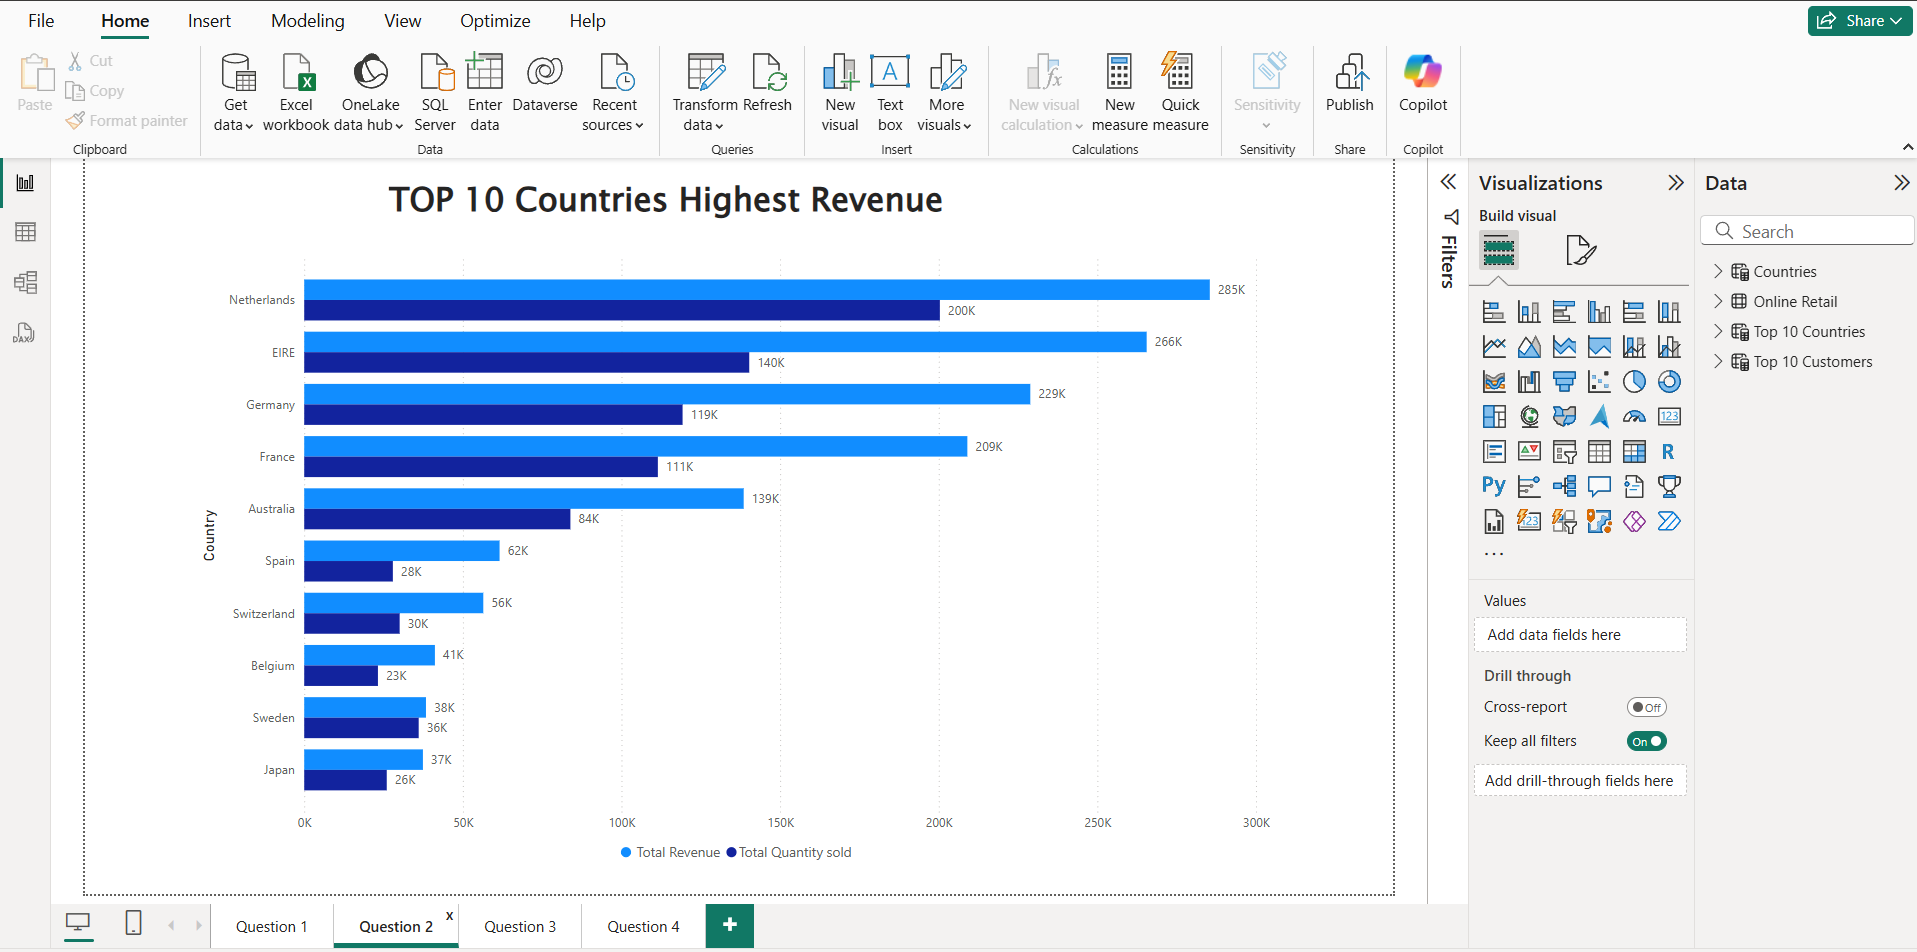

The page's visual inventory and layout, read from the dashboard file:
{"tool":"powerbi","page":{"name":"Question 2","canvas":[1280,720],"ordinal":1},"visuals":[{"type":"clusteredBarChart","fields":{"Category":["Top 10 Countries.Country"],"Y":["Sum(Top 10 Countries.Total Revenue)","Sum(Top 10 Countries.Total Quantity)"]},"box":[108.8,85.6,1060.2,612.6],"z":0},{"type":"textbox","box":[292.3,12.2,694.6,73.4],"z":1000}]}

Visuals, with their boxes on the page's 1280x720 design canvas (x1, y1, x2, y2). These are canvas units, not pixel positions in the 1917x952 screenshot, which may show the page scaled, cropped or inside an application window:
clusteredBarChart - Top 10 Countries.Country x Sum(Top 10 Countries.Total Revenue): bbox=[109, 86, 1169, 698]
textbox: bbox=[292, 12, 987, 86]
